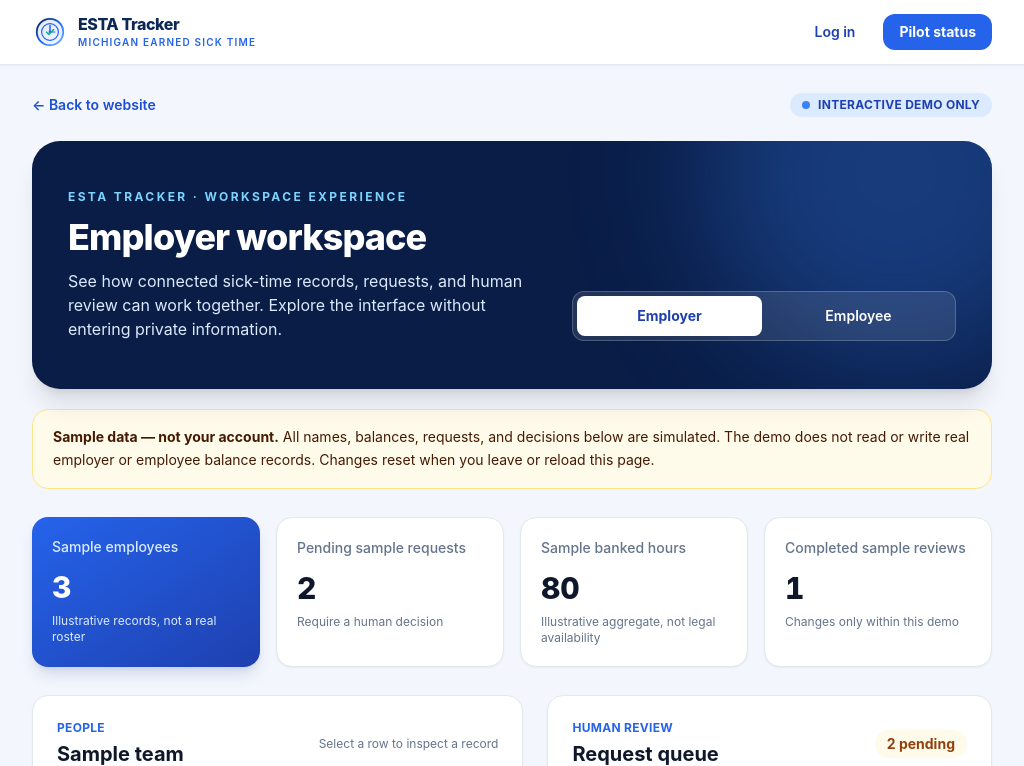
Scenario: Interactive Workspace Demo › lets a sample employee submit a request without a persistence operation
Click the button "Employee": [858, 316] box [766,296,951,336]
(page scrolled)
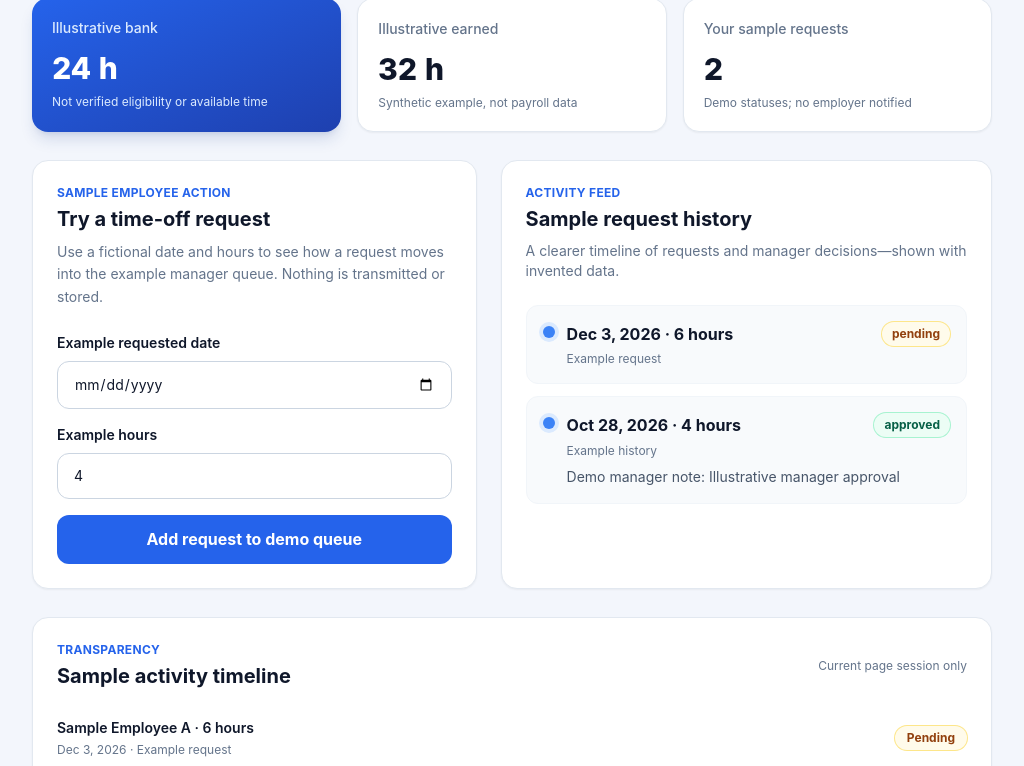
In the date field labelled "Example requested date": [254, 385] box [57,361,452,409], type "2027-01-12"
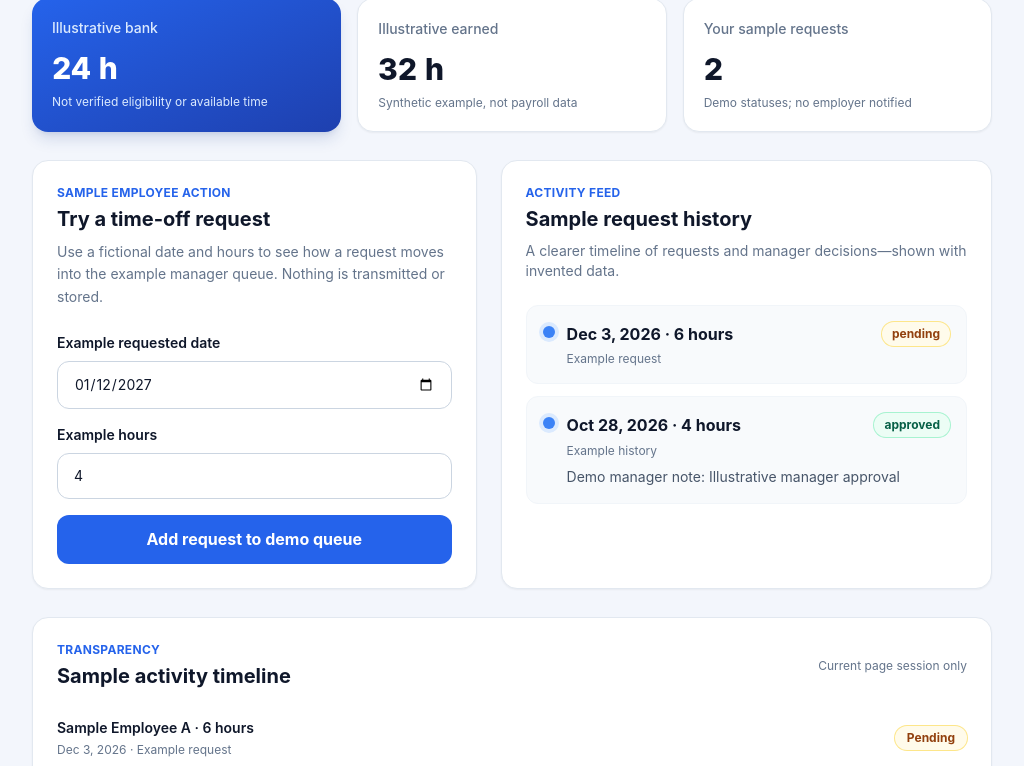
Replace the text in the number field labelled "Example hours" with "3.5": [254, 476] box [57,453,452,499]
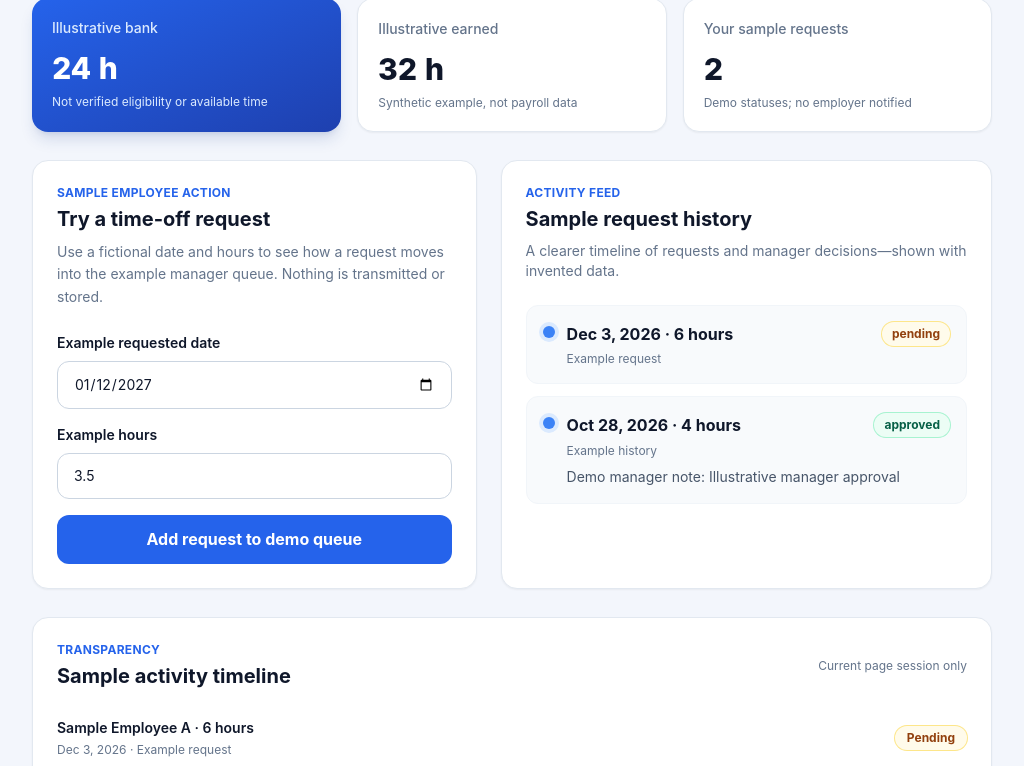
Click the button "Add request to demo queue": [254, 540] box [57,515,452,564]
(page scrolled)
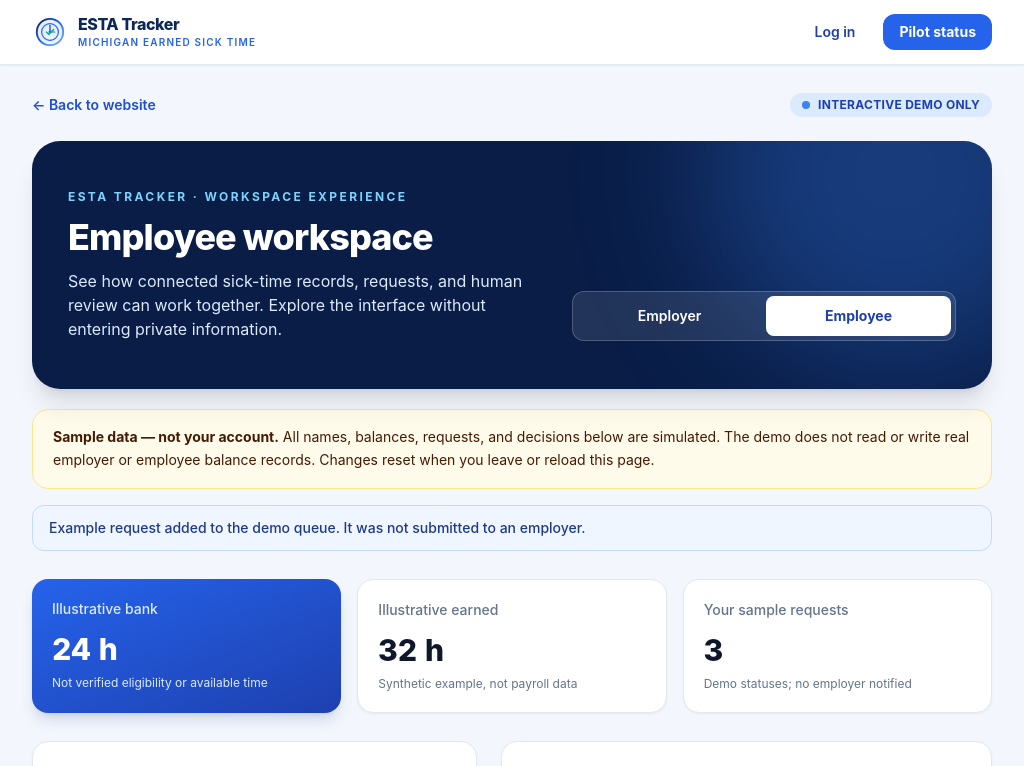
Expected: the message shows "not submitted to an employer", [49,518,586,536]
Click the button "Employer": [670, 316] box [577,296,762,336]
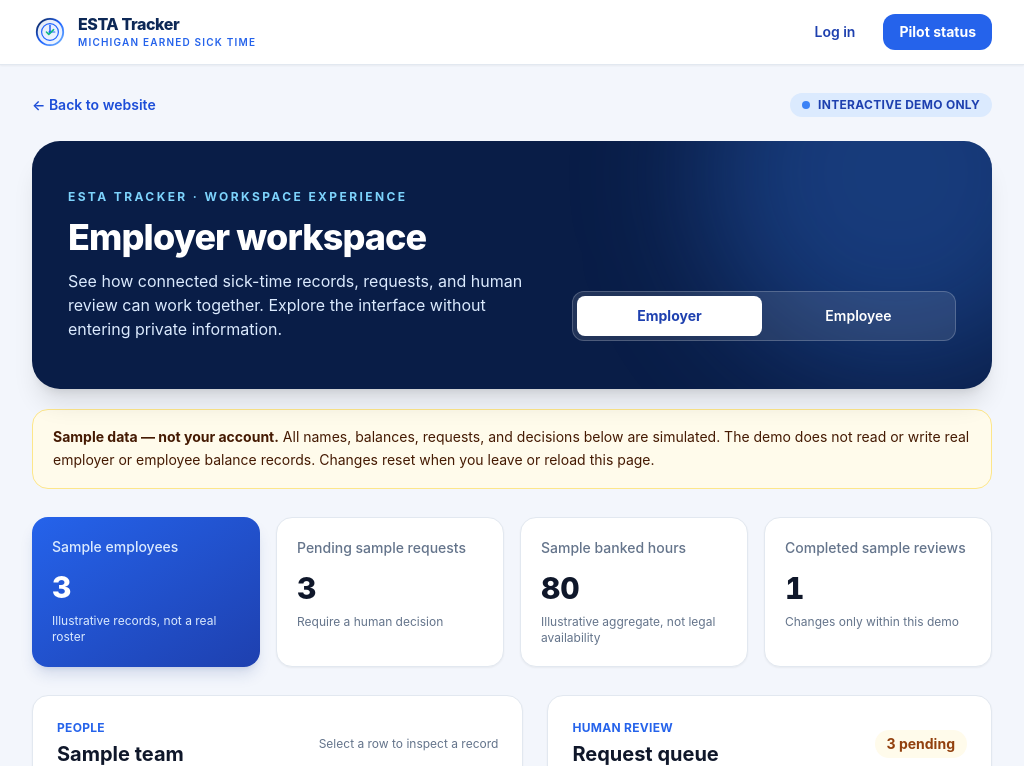
Expected: the text "3 pending" is shown, [874,730,967,758]
